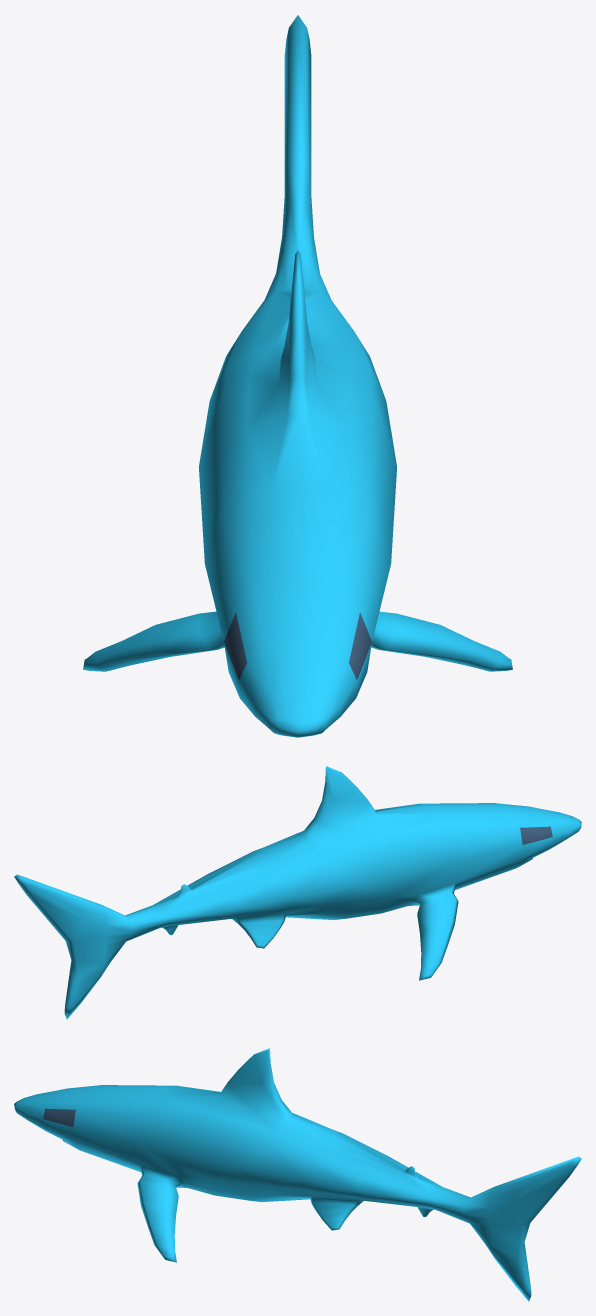
Rendered from Toy117.fbx.
The picture shows the model from 3 angles, top to bottom: view 1: azimuth 30°, elevation 25°; view 2: azimuth 150°, elevation 25°; view 3: azimuth 270°, elevation 25°; orthographic projection. The views are drawn at different scales.
Visible parts, largest first — view 1: Toy117; view 2: Toy117; view 3: Toy117.
Boxes of the visible parts, x1,y1,x2,y2 form: Toy117: (83, 15, 512, 737); Toy117: (14, 766, 581, 1019); Toy117: (14, 1048, 581, 1301).
Size of the model in its own units: 0.2324 by 0.1461 by 0.3944.
